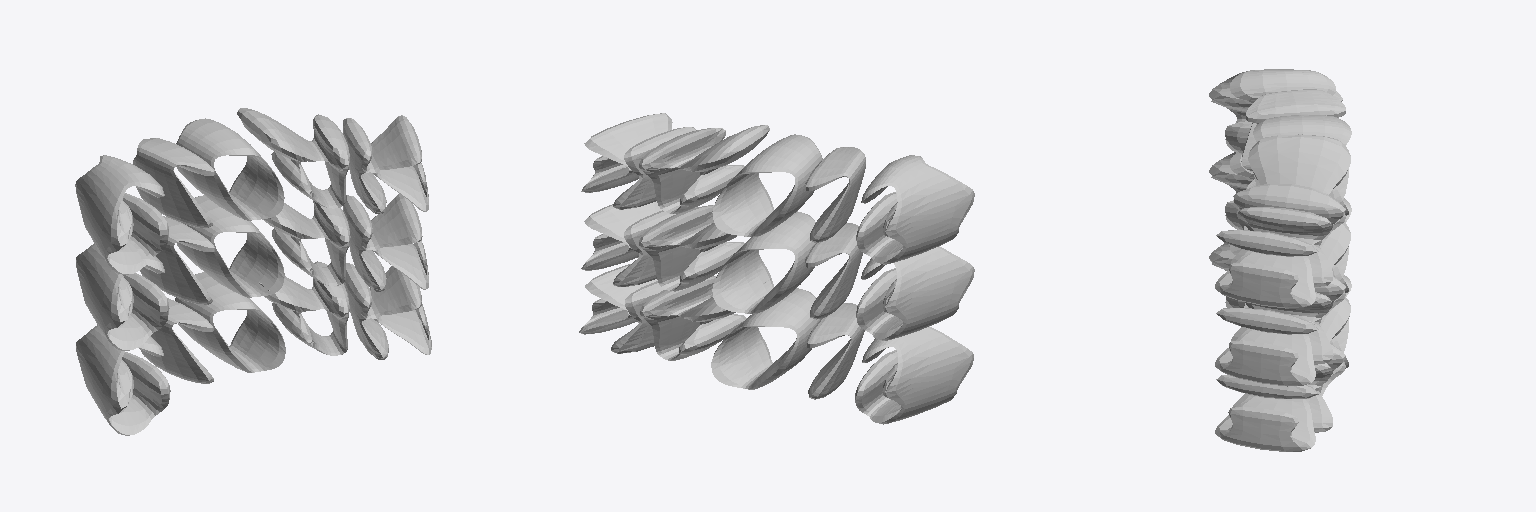
The model's file is CLOAK 3D ELEMENT.obj.
3 renders of one model, left to right at view 1: azimuth 30°, elevation 25°; view 2: azimuth 150°, elevation 25°; view 3: azimuth 270°, elevation 25°, orthographic.
Size of the model in its own units: 40.13 by 27.96 by 14.32.